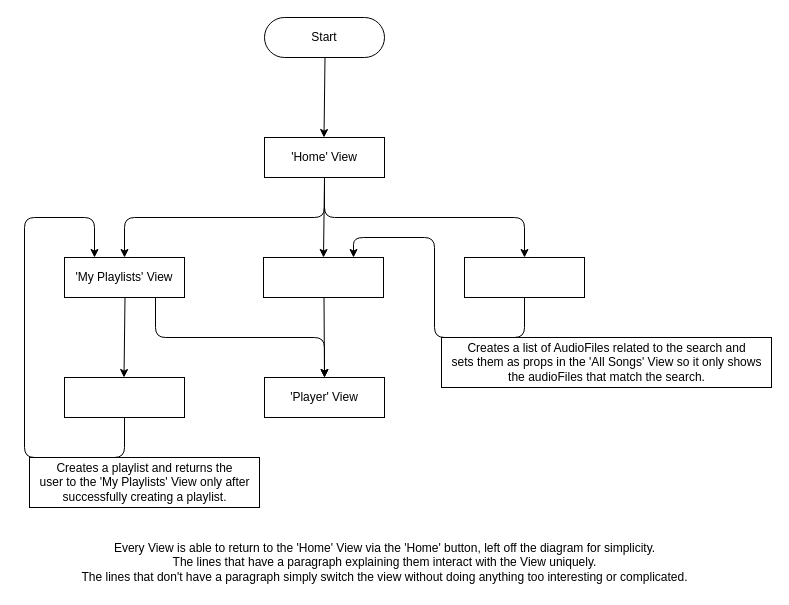
Some shapes in this 789 by 605 pixel diagram are drawn without their labels. The shapes that lost their labels are listed below. From the top down, each one's centre as x and y in pixels, then its label:
the point at 323,277: 'All Songs' View
the point at 524,277: 'Search' View
the point at 124,397: 'Create Playlists' View
